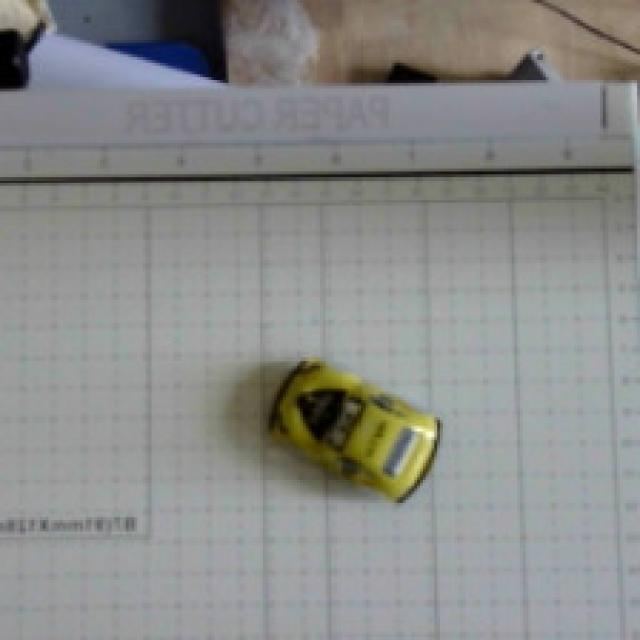Yellow Car: (208, 311, 463, 521)
